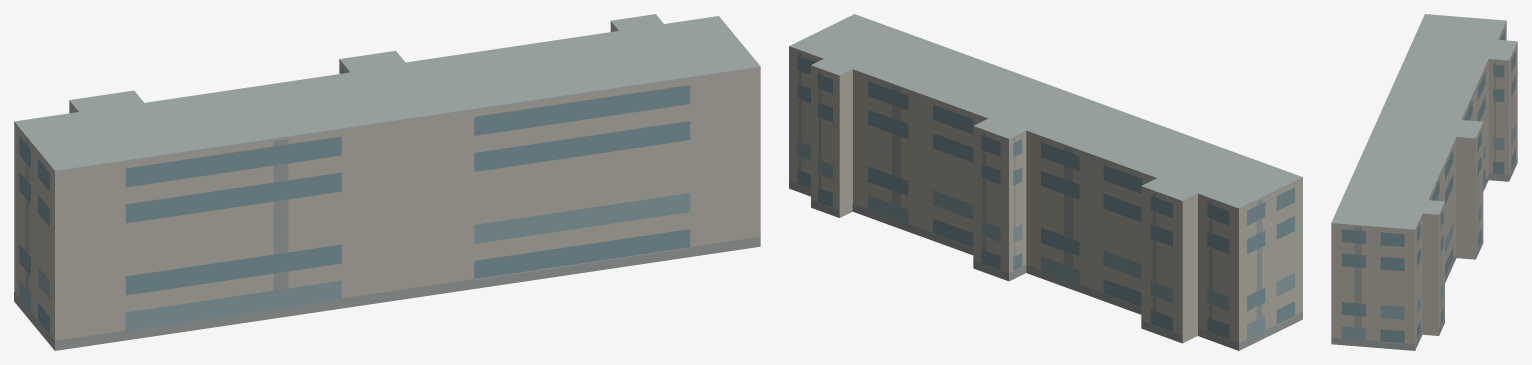
Rendered from residential-9d4e96da-afe9-4240-9f07-9bde3c65c0f5.glb.
3 renders of one model, left to right at view 1: azimuth 30°, elevation 25°; view 2: azimuth 150°, elevation 25°; view 3: azimuth 270°, elevation 25°, orthographic. The views are drawn at different scales.
Parts seen in each view (by area): view 1: residential-9d4e96da-afe9-4240-9f07-9bde3c65c0f5.tmp; view 2: residential-9d4e96da-afe9-4240-9f07-9bde3c65c0f5.tmp; view 3: residential-9d4e96da-afe9-4240-9f07-9bde3c65c0f5.tmp.
Boxes of the visible parts, left/top/right/bottom form: residential-9d4e96da-afe9-4240-9f07-9bde3c65c0f5.tmp: left=14, top=14, right=760, bottom=350; residential-9d4e96da-afe9-4240-9f07-9bde3c65c0f5.tmp: left=789, top=14, right=1302, bottom=350; residential-9d4e96da-afe9-4240-9f07-9bde3c65c0f5.tmp: left=1331, top=14, right=1517, bottom=350.
Size of the model in its own units: 58.2 by 15.25 by 21.27.
